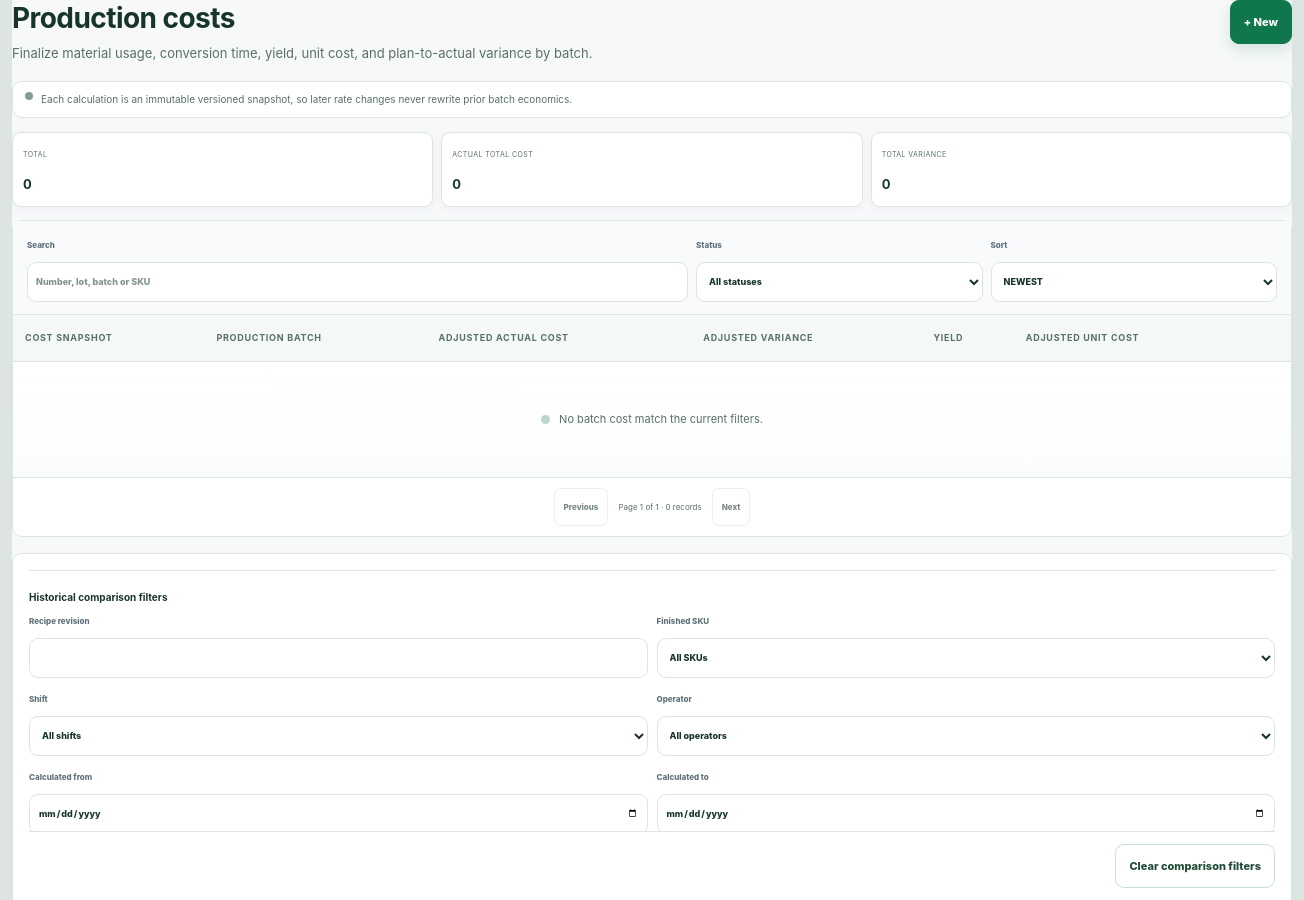
it: traceability and batch cost workspaces › finalizes and displays material, time, yield and unit-cost variance
This screenshot has width=1304, height=900.
Click the button "+ New" at (1261,22), box [1230, 0, 1292, 44]
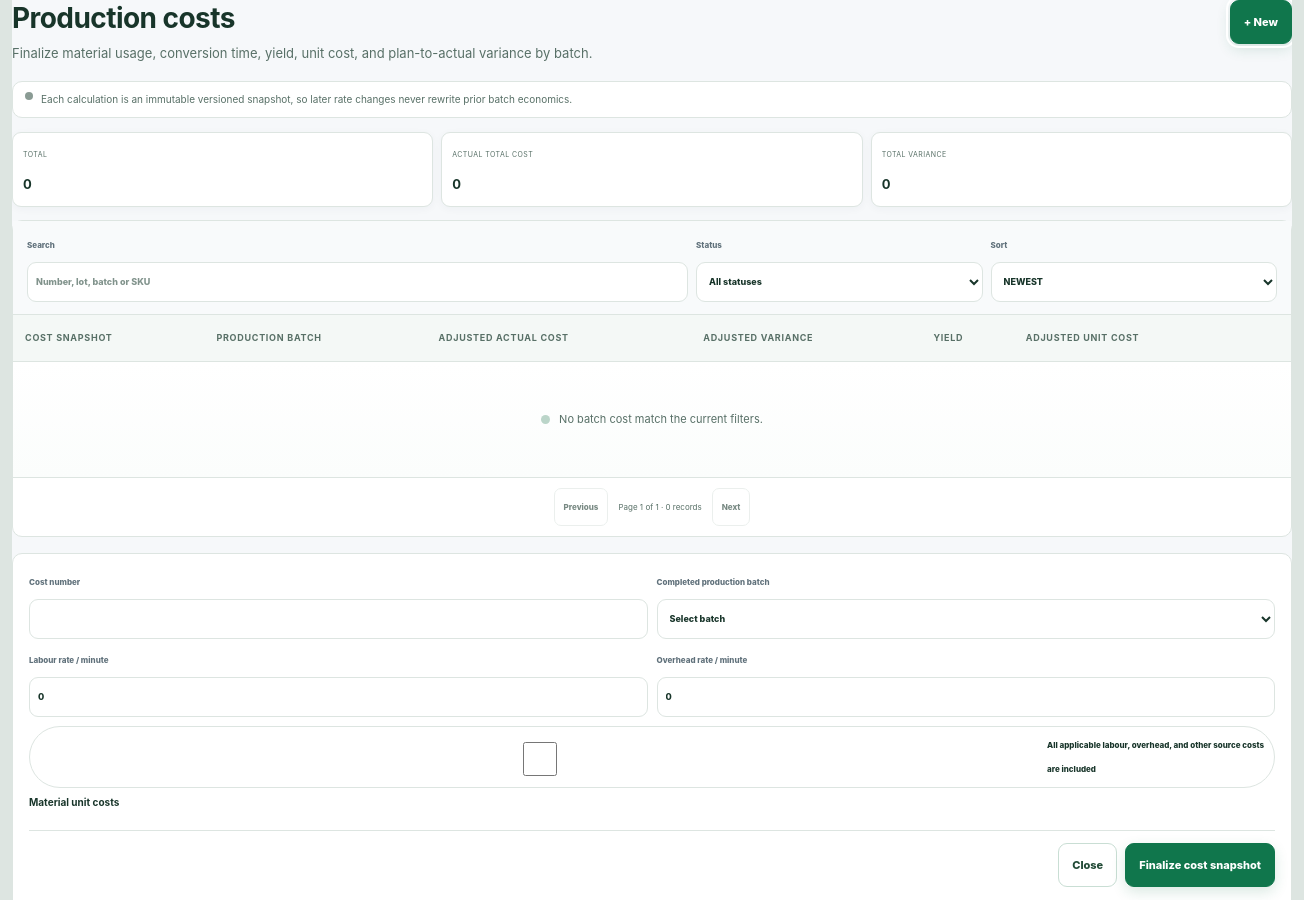
Type "cost-ui-001" into the field labelled "Cost number" at (338,619), box [29, 599, 648, 639]
Select "PRO-UI-001 / BATCH-UI-001" in the dropdown named "Cost production batch" at (966,619), box [656, 599, 1275, 639]
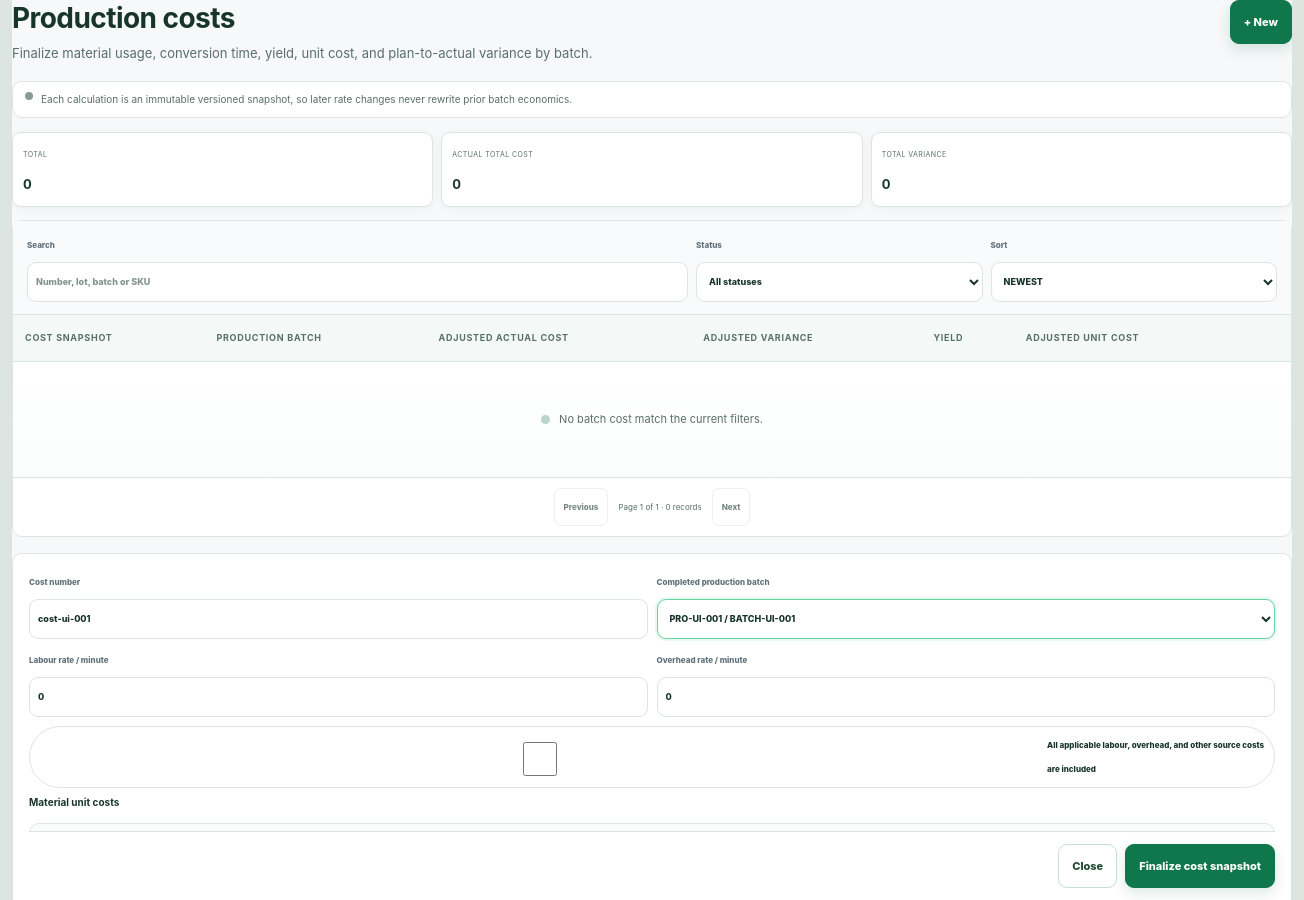
Replace the text in the number field named "Labour rate per minute" with "2.5" at (338,697), box [29, 677, 648, 717]
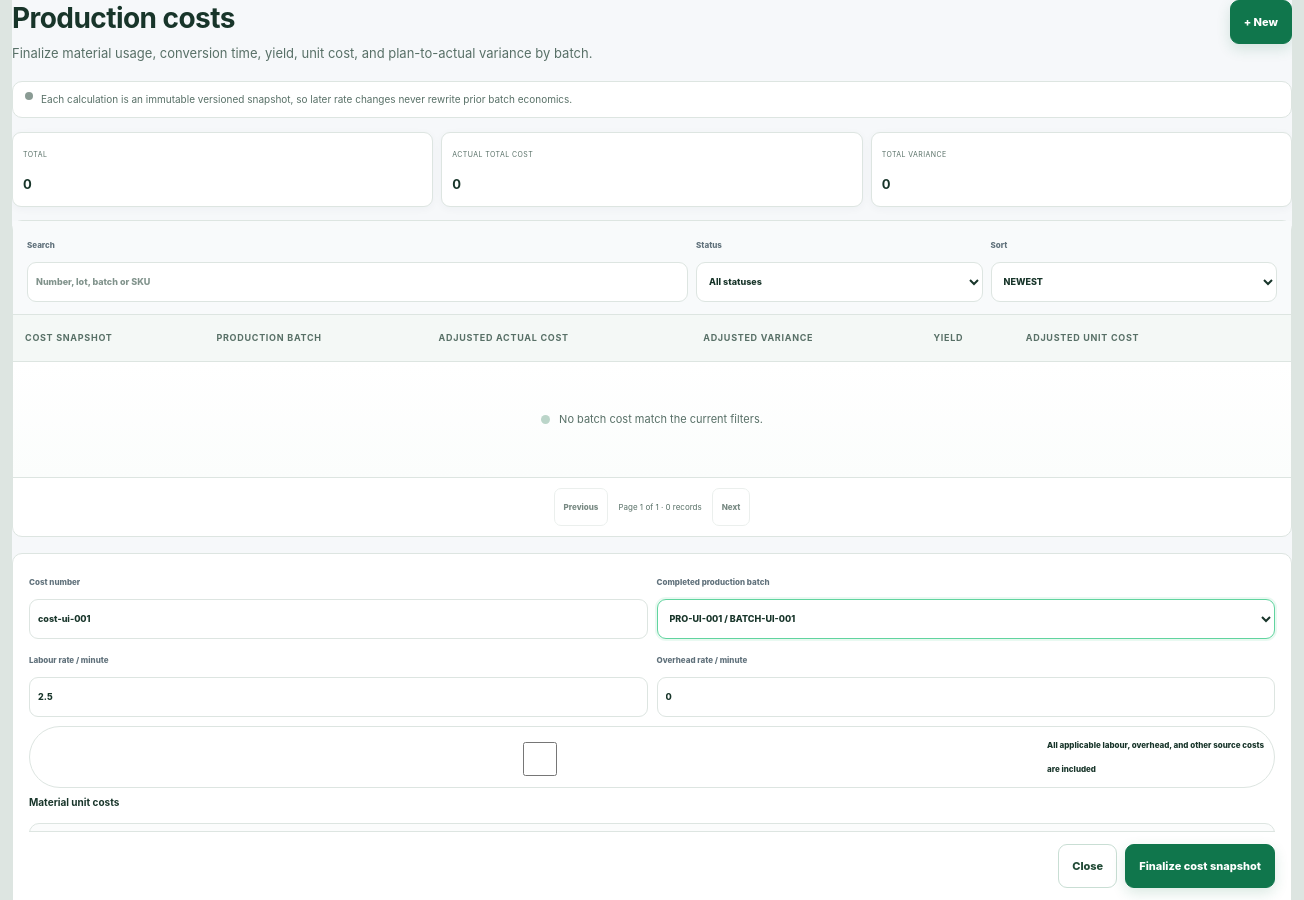
Replace the text in the number field named "Overhead rate per minute" with "1.25" at (966,697), box [656, 677, 1275, 717]
(page scrolled)
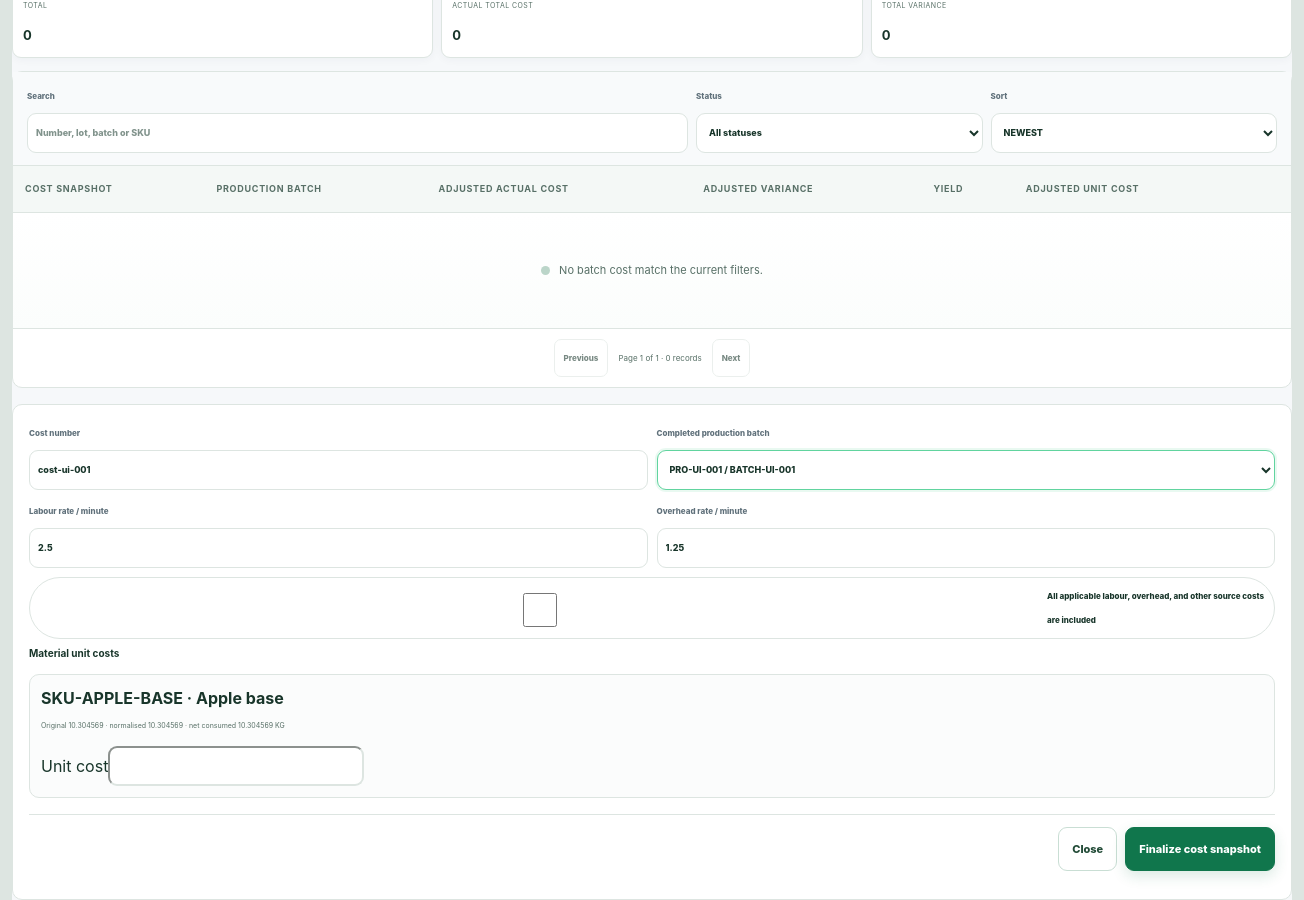
Type "50" into the number field named "SKU-APPLE-BASE unit cost" at (236,766), box [108, 746, 364, 786]
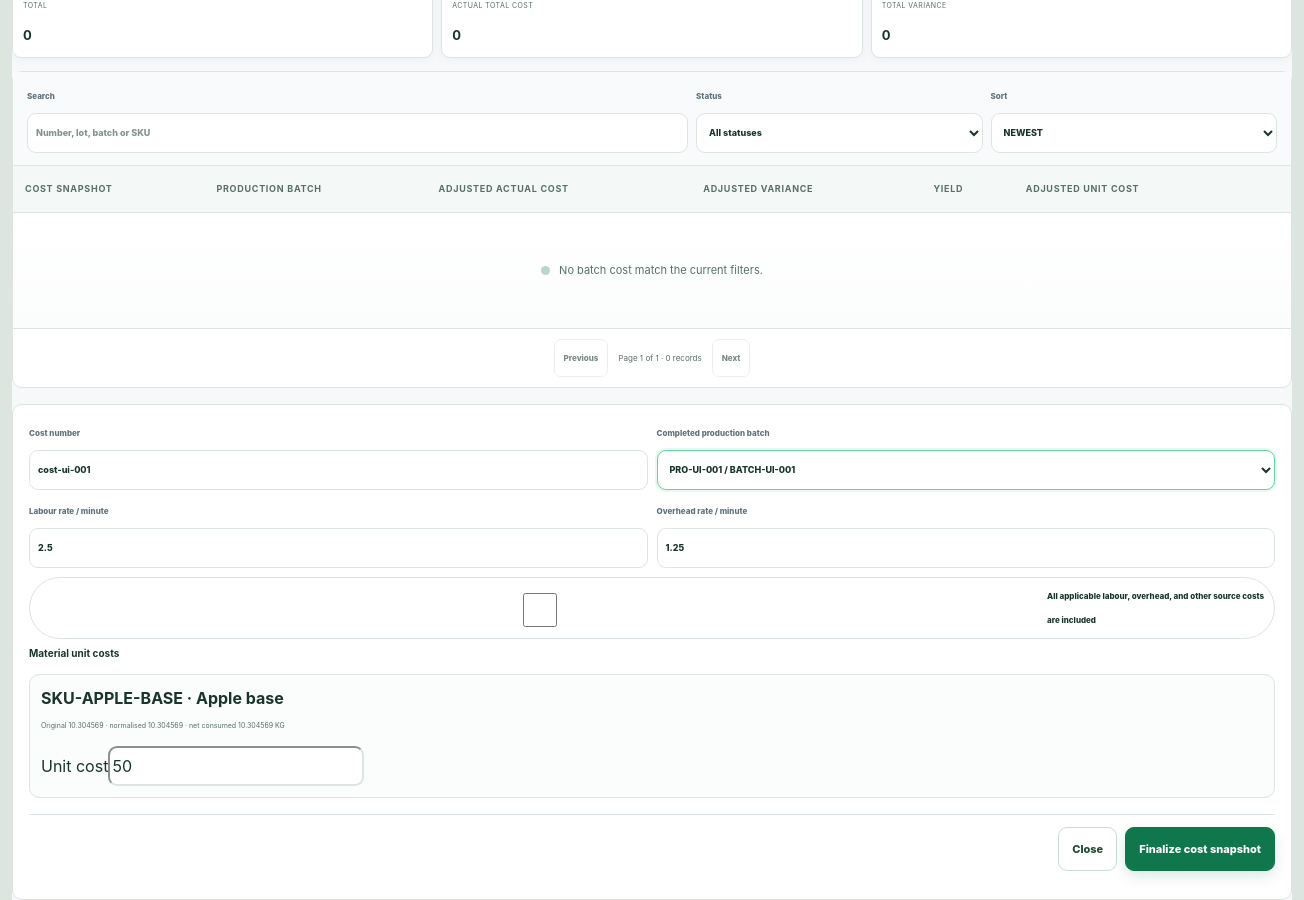
Click the button "Finalize cost snapshot" at (1200,849), box [1125, 827, 1275, 871]
(page scrolled)
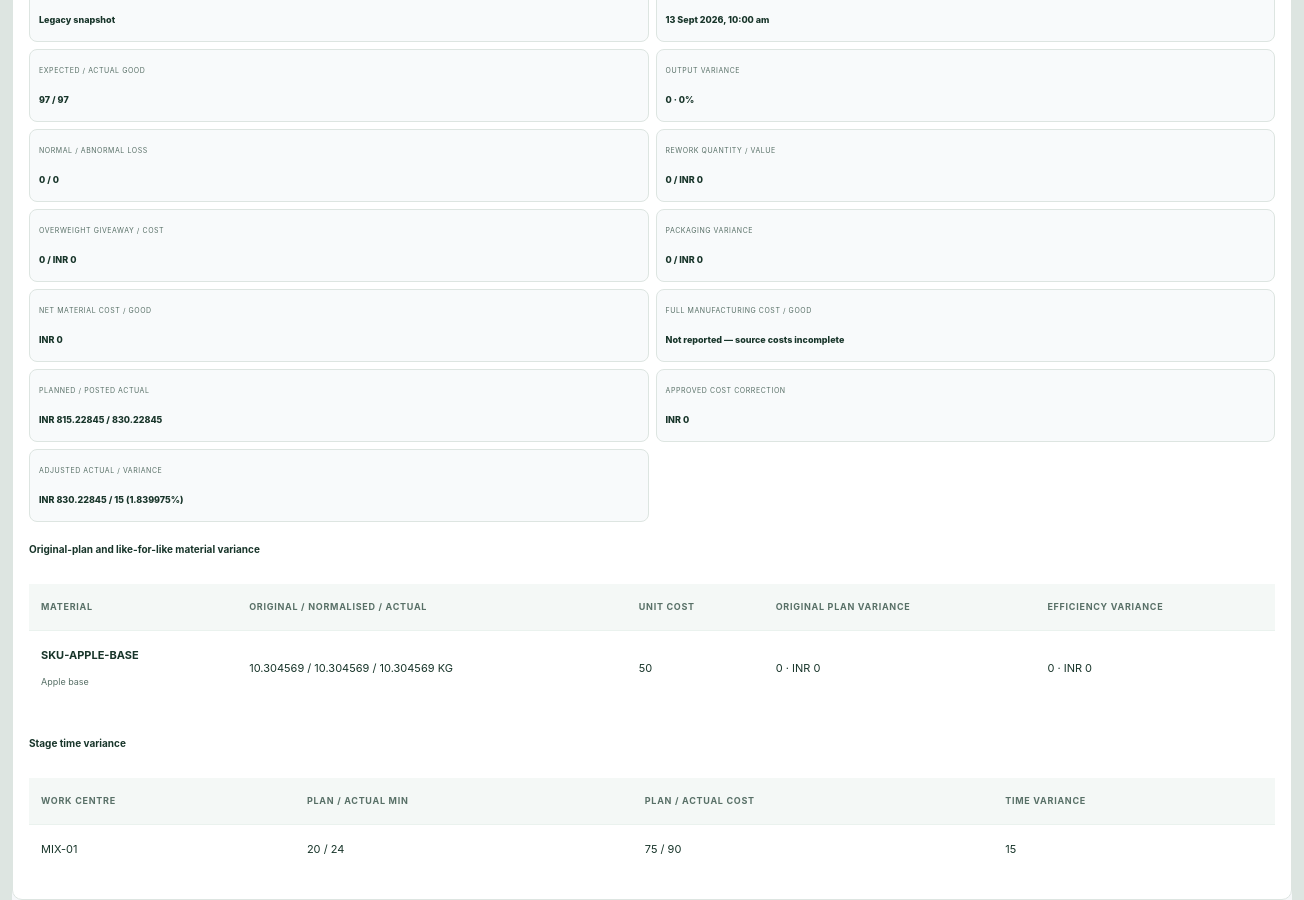
Result: the heading "Original-plan and like-for-like material variance" is shown at [29, 543, 260, 555]
Result: the heading "Stage time variance" is shown at [29, 737, 126, 749]
